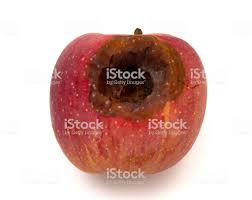damaged_apple: (56, 33, 215, 185)
